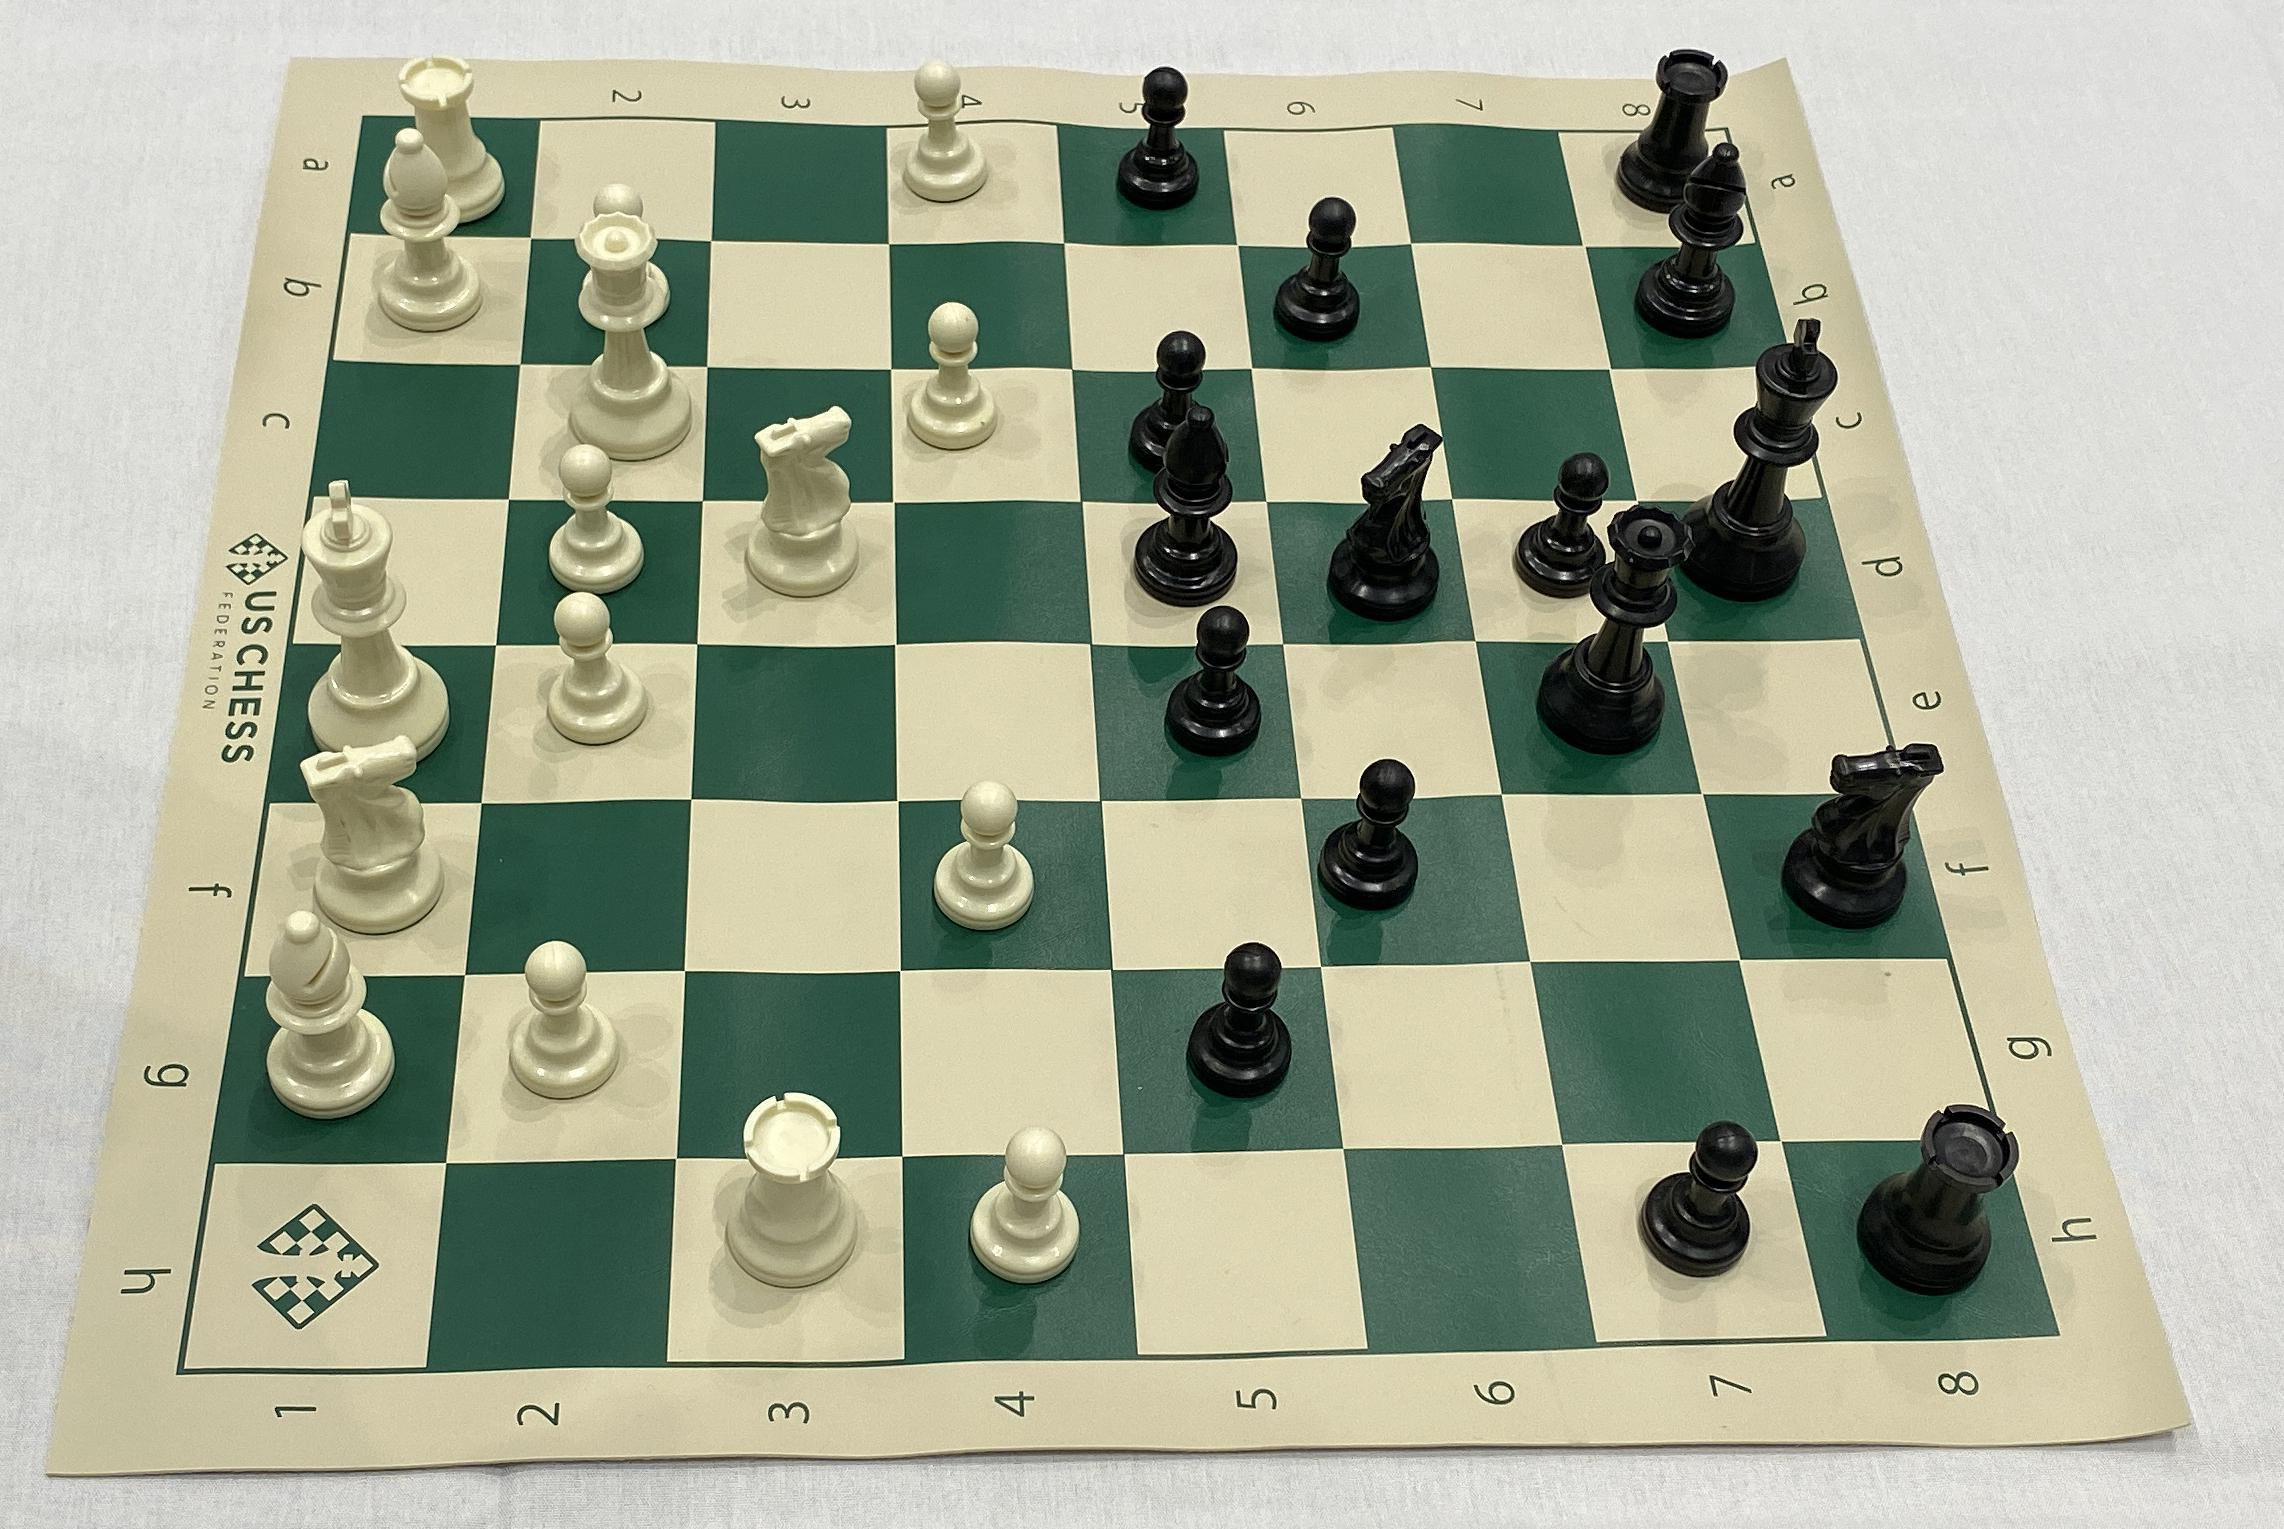black-bishop: (1632, 137, 1759, 343), (1134, 403, 1242, 611)
black-king: (1673, 311, 1852, 606)
black-knight: (1784, 730, 1945, 932), (1319, 420, 1453, 625)
black-pawn: (1632, 1116, 1765, 1288), (1184, 930, 1300, 1114), (1317, 751, 1424, 920), (1163, 602, 1267, 763), (1266, 188, 1366, 353), (1510, 447, 1610, 606), (1122, 324, 1220, 481), (1110, 60, 1208, 213)
black-queen: (1540, 503, 1685, 763)
black-rook: (1859, 1097, 2025, 1299), (1614, 43, 1736, 208)
white-bishop: (261, 911, 401, 1126), (363, 125, 488, 341)
white-king: (292, 471, 461, 766)
white-knight: (290, 735, 445, 937), (740, 403, 872, 609)
white-pawn: (962, 1118, 1087, 1295), (507, 940, 628, 1106), (926, 771, 1039, 940), (537, 592, 652, 751), (899, 295, 1005, 457), (897, 51, 996, 210), (548, 439, 648, 594), (580, 177, 674, 336)
white-queen: (553, 212, 706, 464)
white-rook: (720, 1084, 870, 1299), (397, 48, 512, 230)
